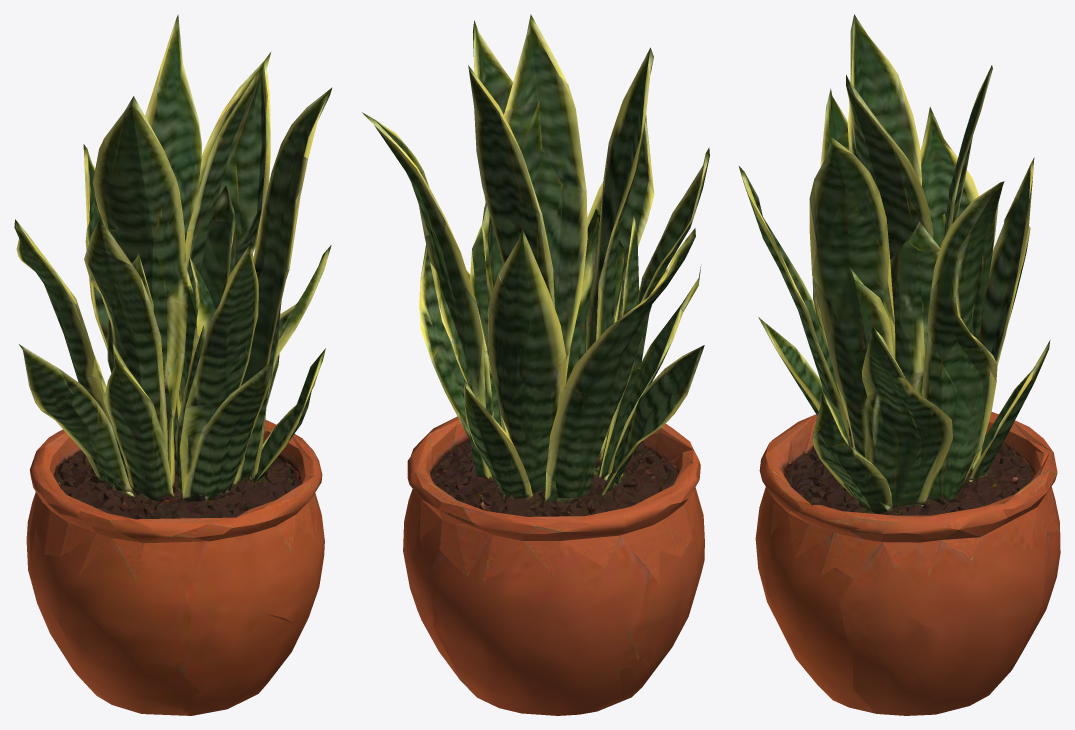
File: snake-plant.glb
The picture shows the model from 3 angles, left to right: view 1: azimuth 30°, elevation 25°; view 2: azimuth 150°, elevation 25°; view 3: azimuth 270°, elevation 25°; orthographic projection.
Visible parts, largest first — view 1: output_unwrapped; view 2: output_unwrapped; view 3: output_unwrapped.
Part boxes in pixels (bbox=[...]): output_unwrapped: bbox=[14, 14, 332, 715]; output_unwrapped: bbox=[362, 14, 709, 715]; output_unwrapped: bbox=[739, 14, 1060, 715].
Bounding box in the file's own units: 0.4965 × 1 × 0.4597.
1 material, 1 textured.
